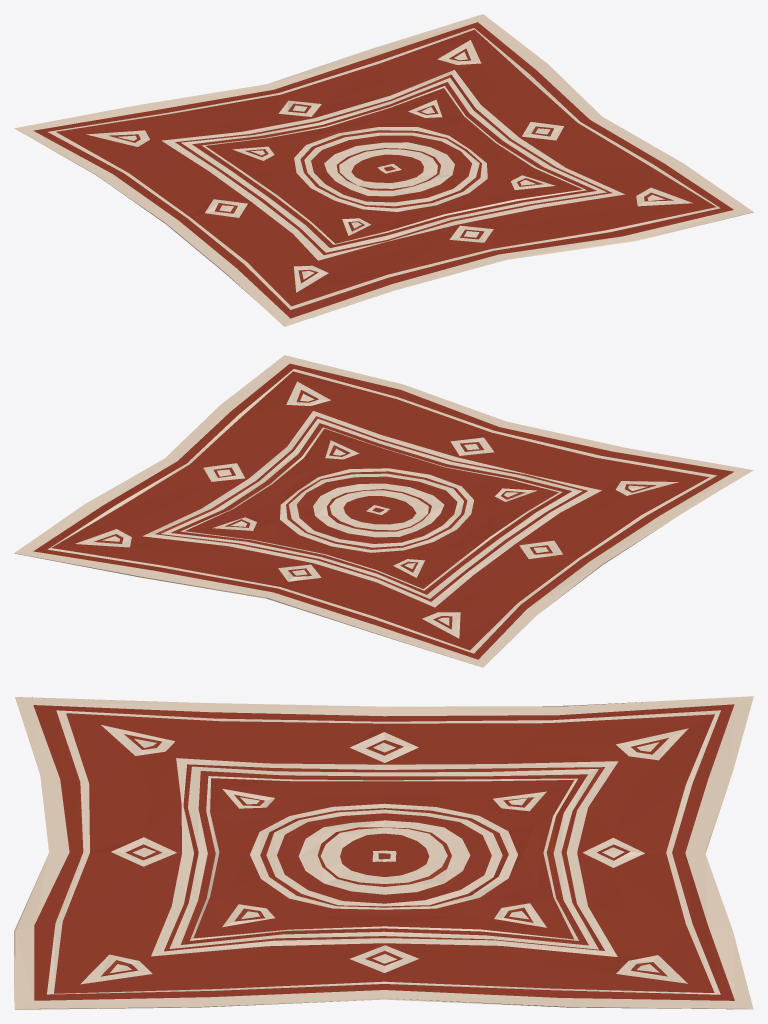
File: SFFA_Rug_001.fbx
3 renders of one model, top to bottom at view 1: azimuth 30°, elevation 25°; view 2: azimuth 150°, elevation 25°; view 3: azimuth 270°, elevation 25°, orthographic. The views are drawn at different scales.
Visible parts, largest first — view 1: SFFA_Rug_001; view 2: SFFA_Rug_001; view 3: SFFA_Rug_001.
Boxes of the visible parts, x1=… form: SFFA_Rug_001: x1=14, y1=14, x2=753, y2=326; SFFA_Rug_001: x1=14, y1=355, x2=753, y2=667; SFFA_Rug_001: x1=14, y1=696, x2=753, y2=1009.
Size of the model in its own units: 295 by 1.14 by 295.
